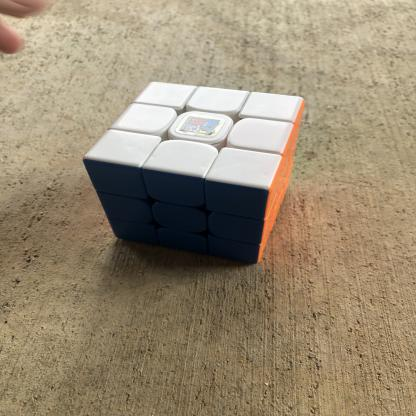SolvedCube: (79, 65, 317, 275)
